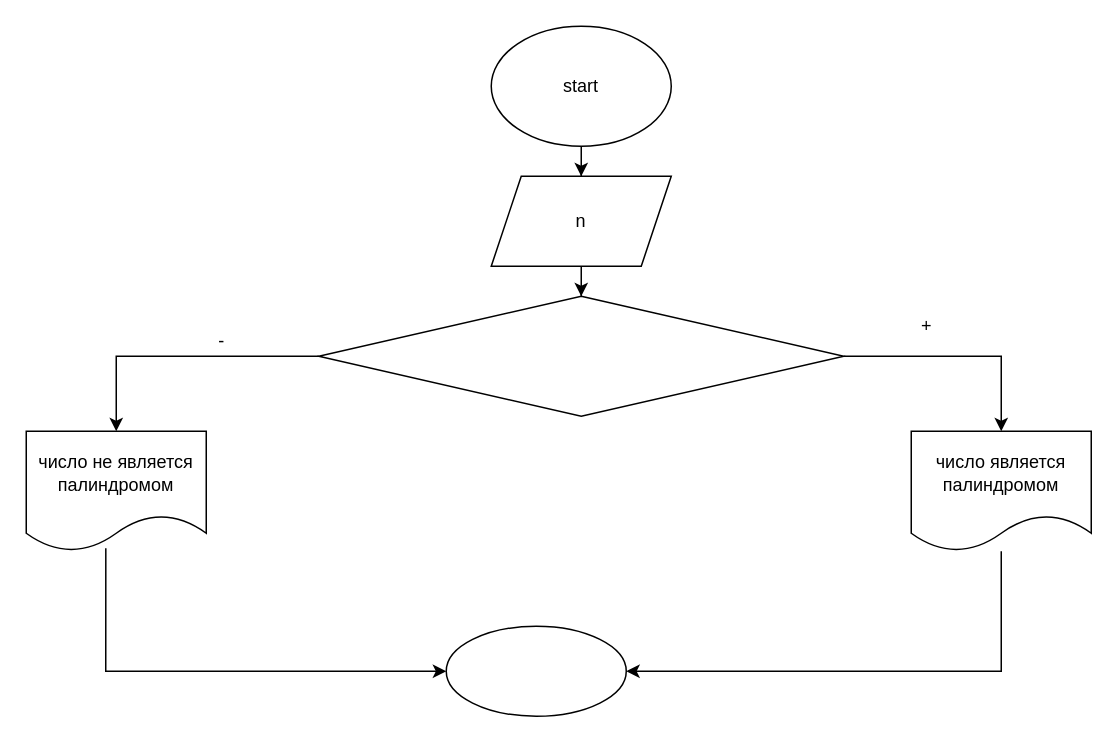
This 1118x743 diagram has some shape labels left out. The box of each missing label's shape, as (x1, y1, x2, y2) in pixels:
end: (445, 625, 626, 716)
n/10000==n%10 и (n/1000)%10==(n/10)%10: (317, 295, 844, 416)
